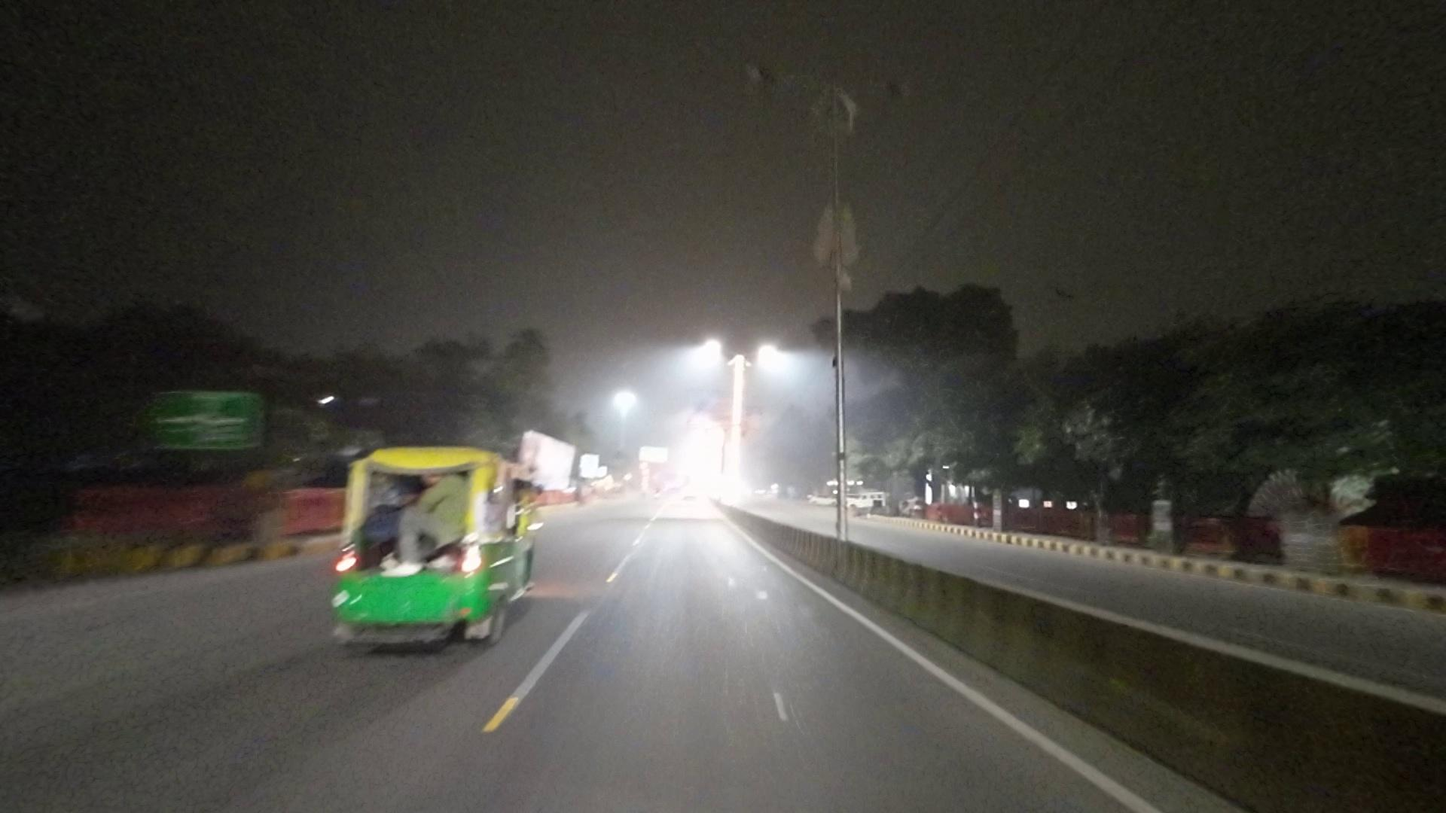streetlight: (737, 52, 828, 96), (852, 74, 934, 107)
